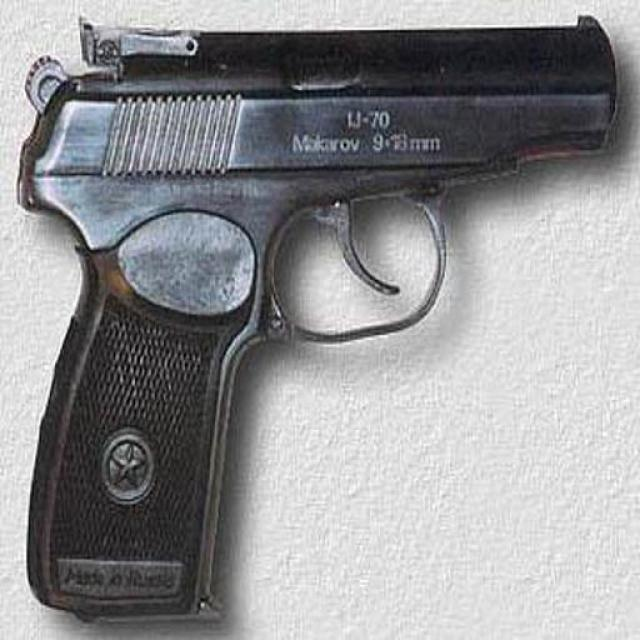pistol: (17, 14, 616, 616)
